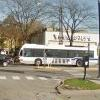Bus: (17, 38, 93, 71)
